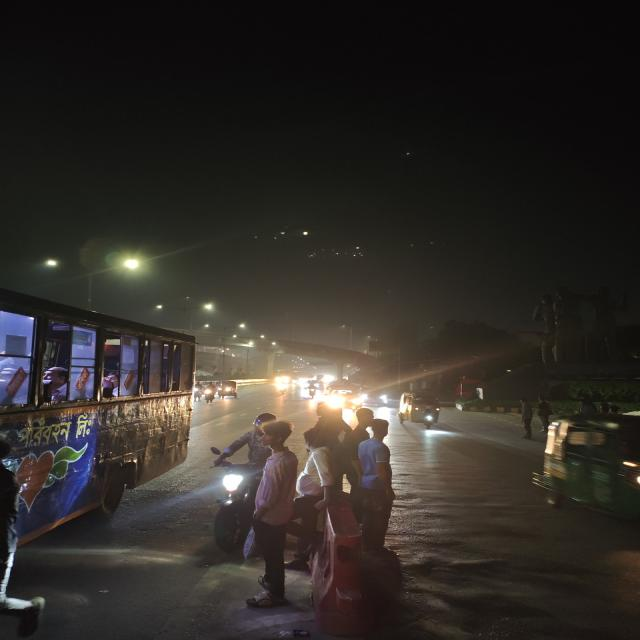bus: (0, 282, 202, 580)
car: (326, 386, 364, 413)
cng: (400, 394, 444, 430), (217, 380, 240, 400)
motorcycle: (202, 426, 262, 562), (200, 378, 218, 404), (307, 384, 318, 400)
pedestrian: (245, 417, 304, 604), (351, 405, 407, 569), (516, 398, 539, 438), (534, 397, 556, 433)
